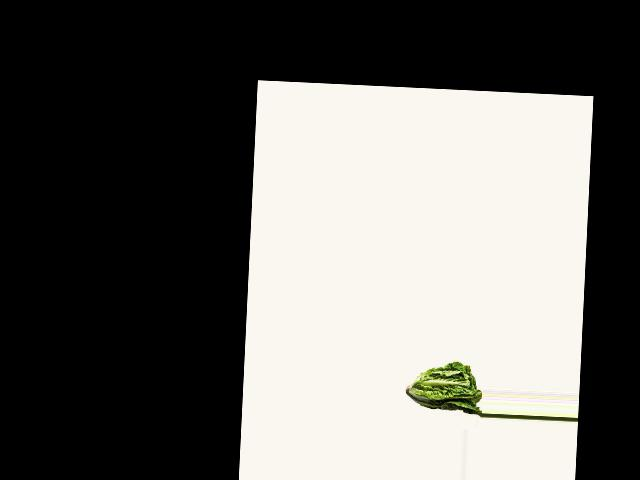lettuce: (406, 356, 483, 414)
